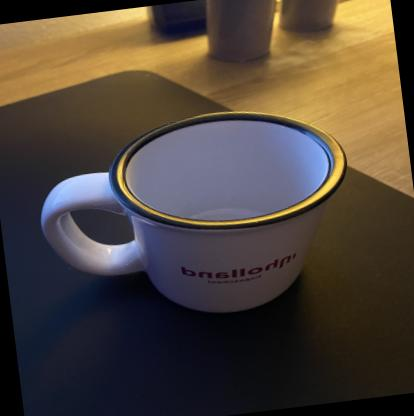Cup: (28, 95, 363, 336)
